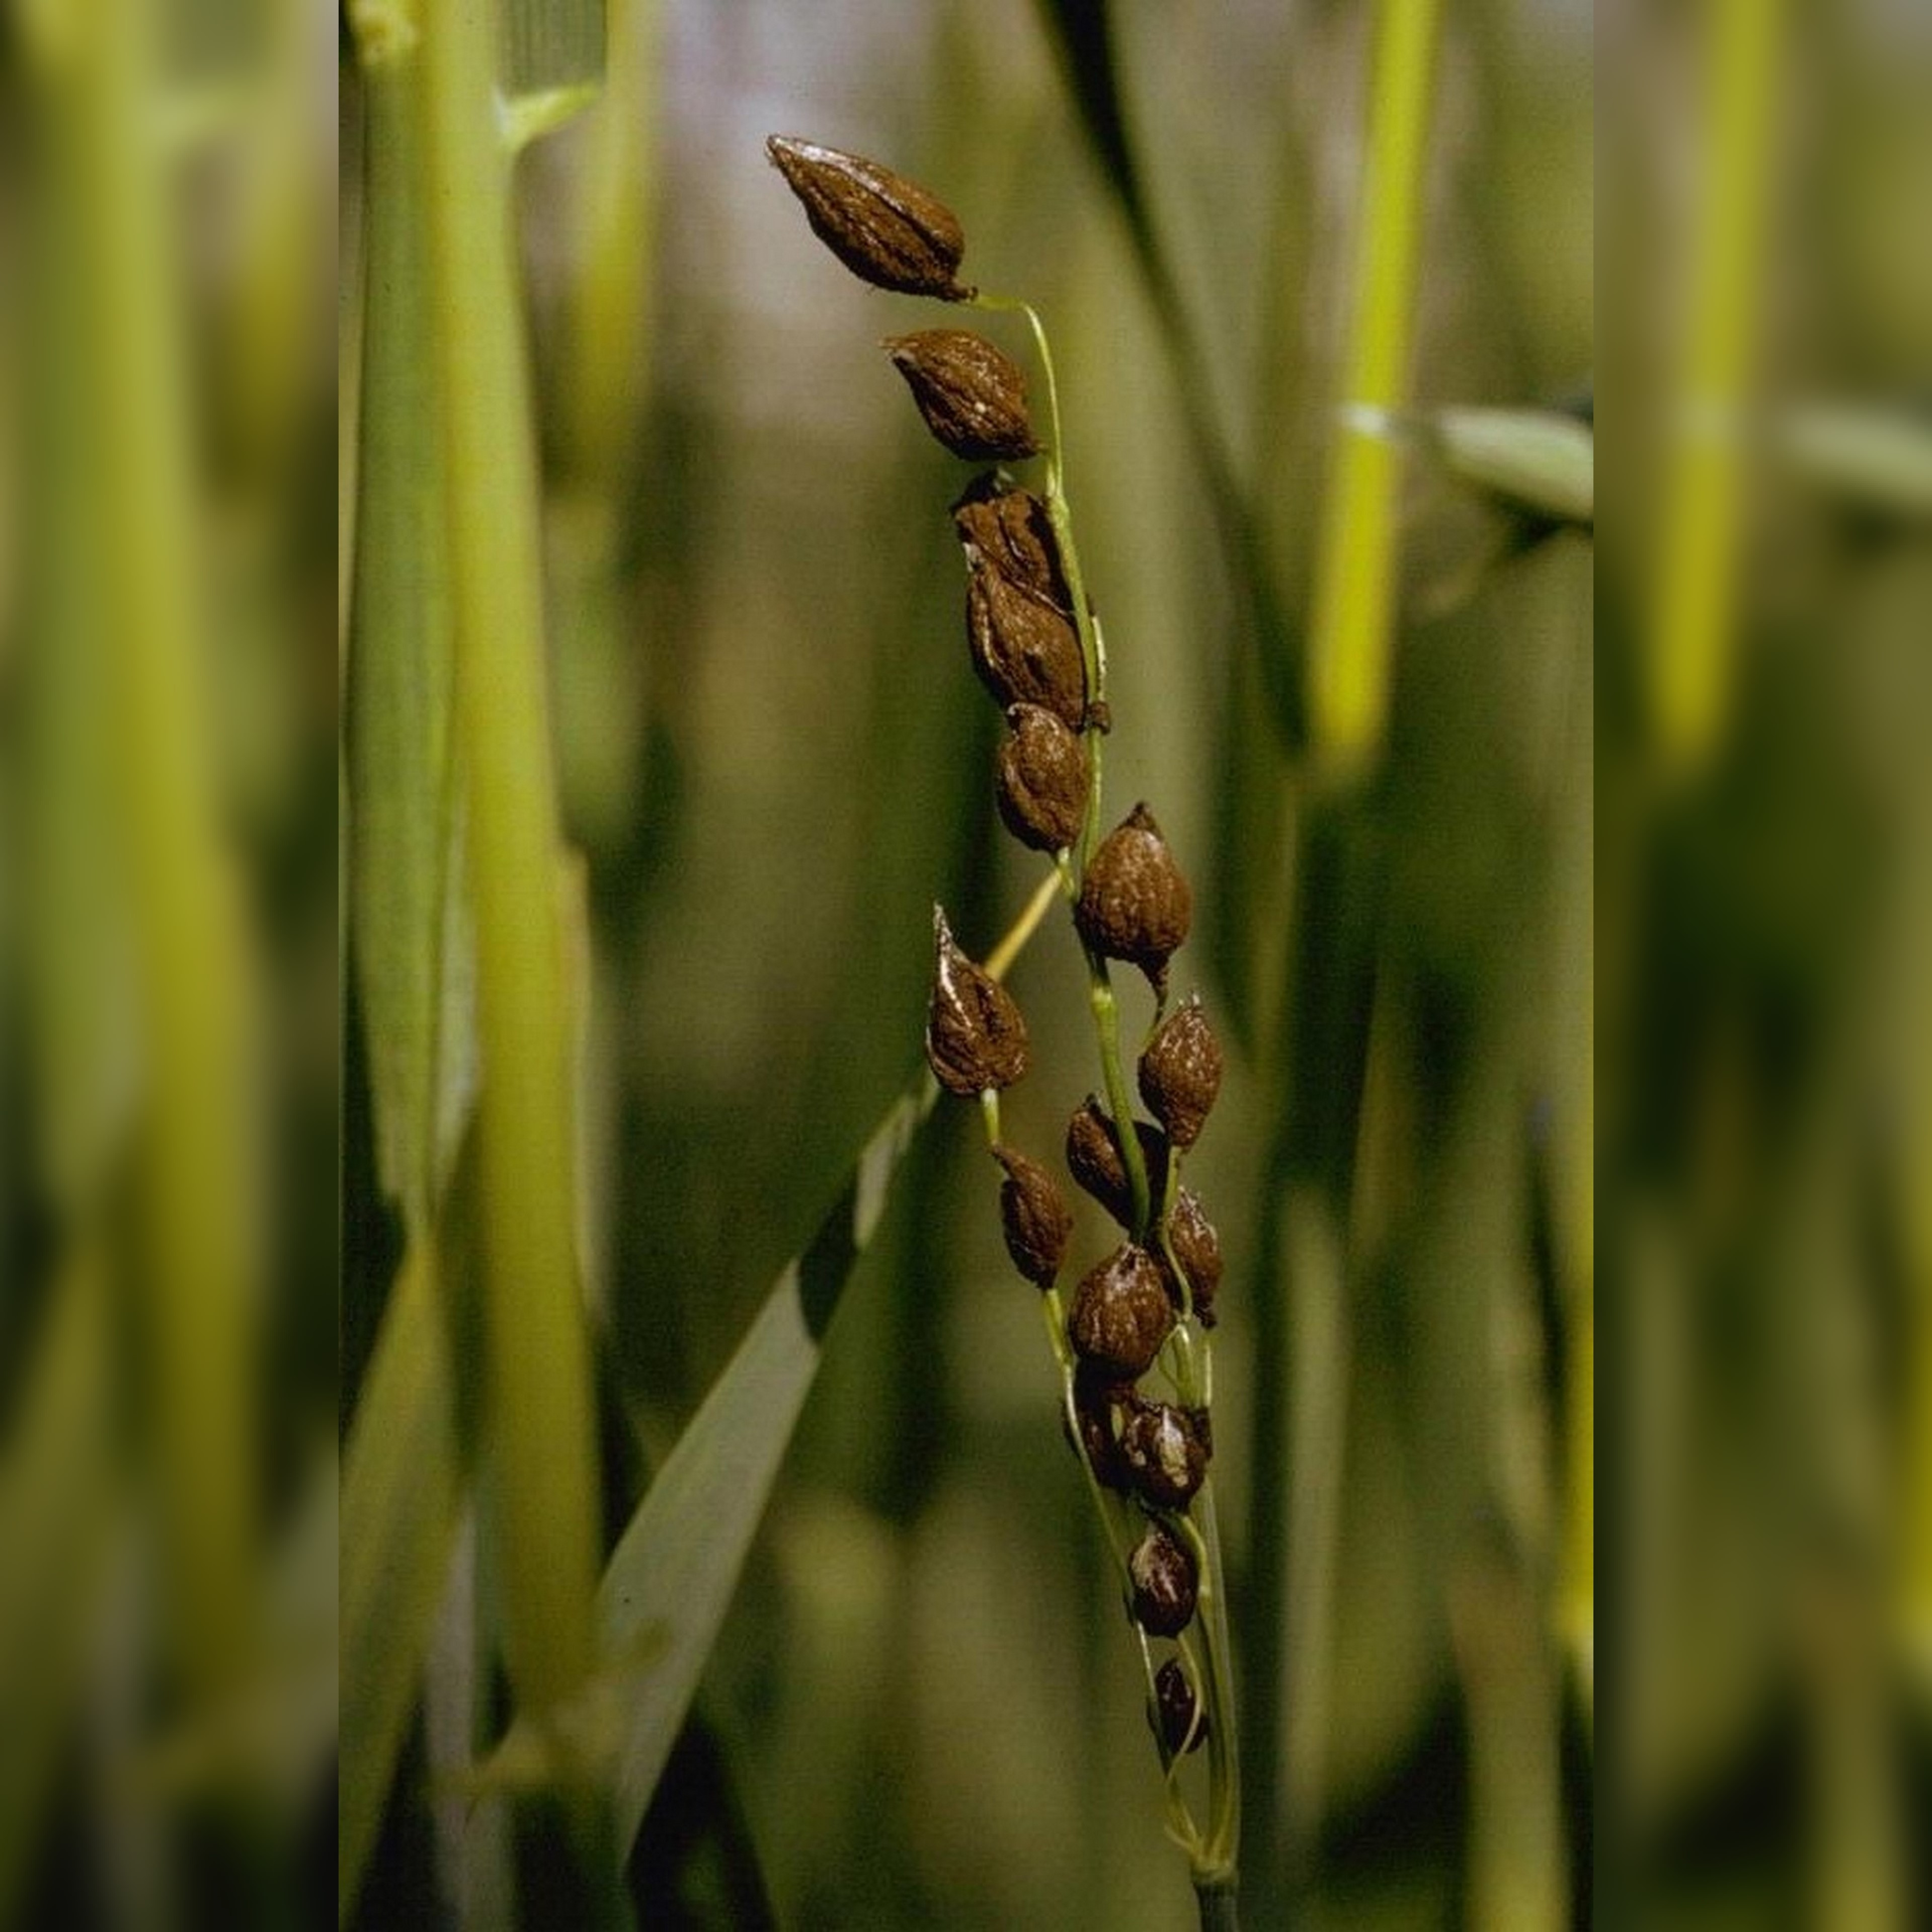Wheat Loose Smut: (748, 67, 1332, 1759)
